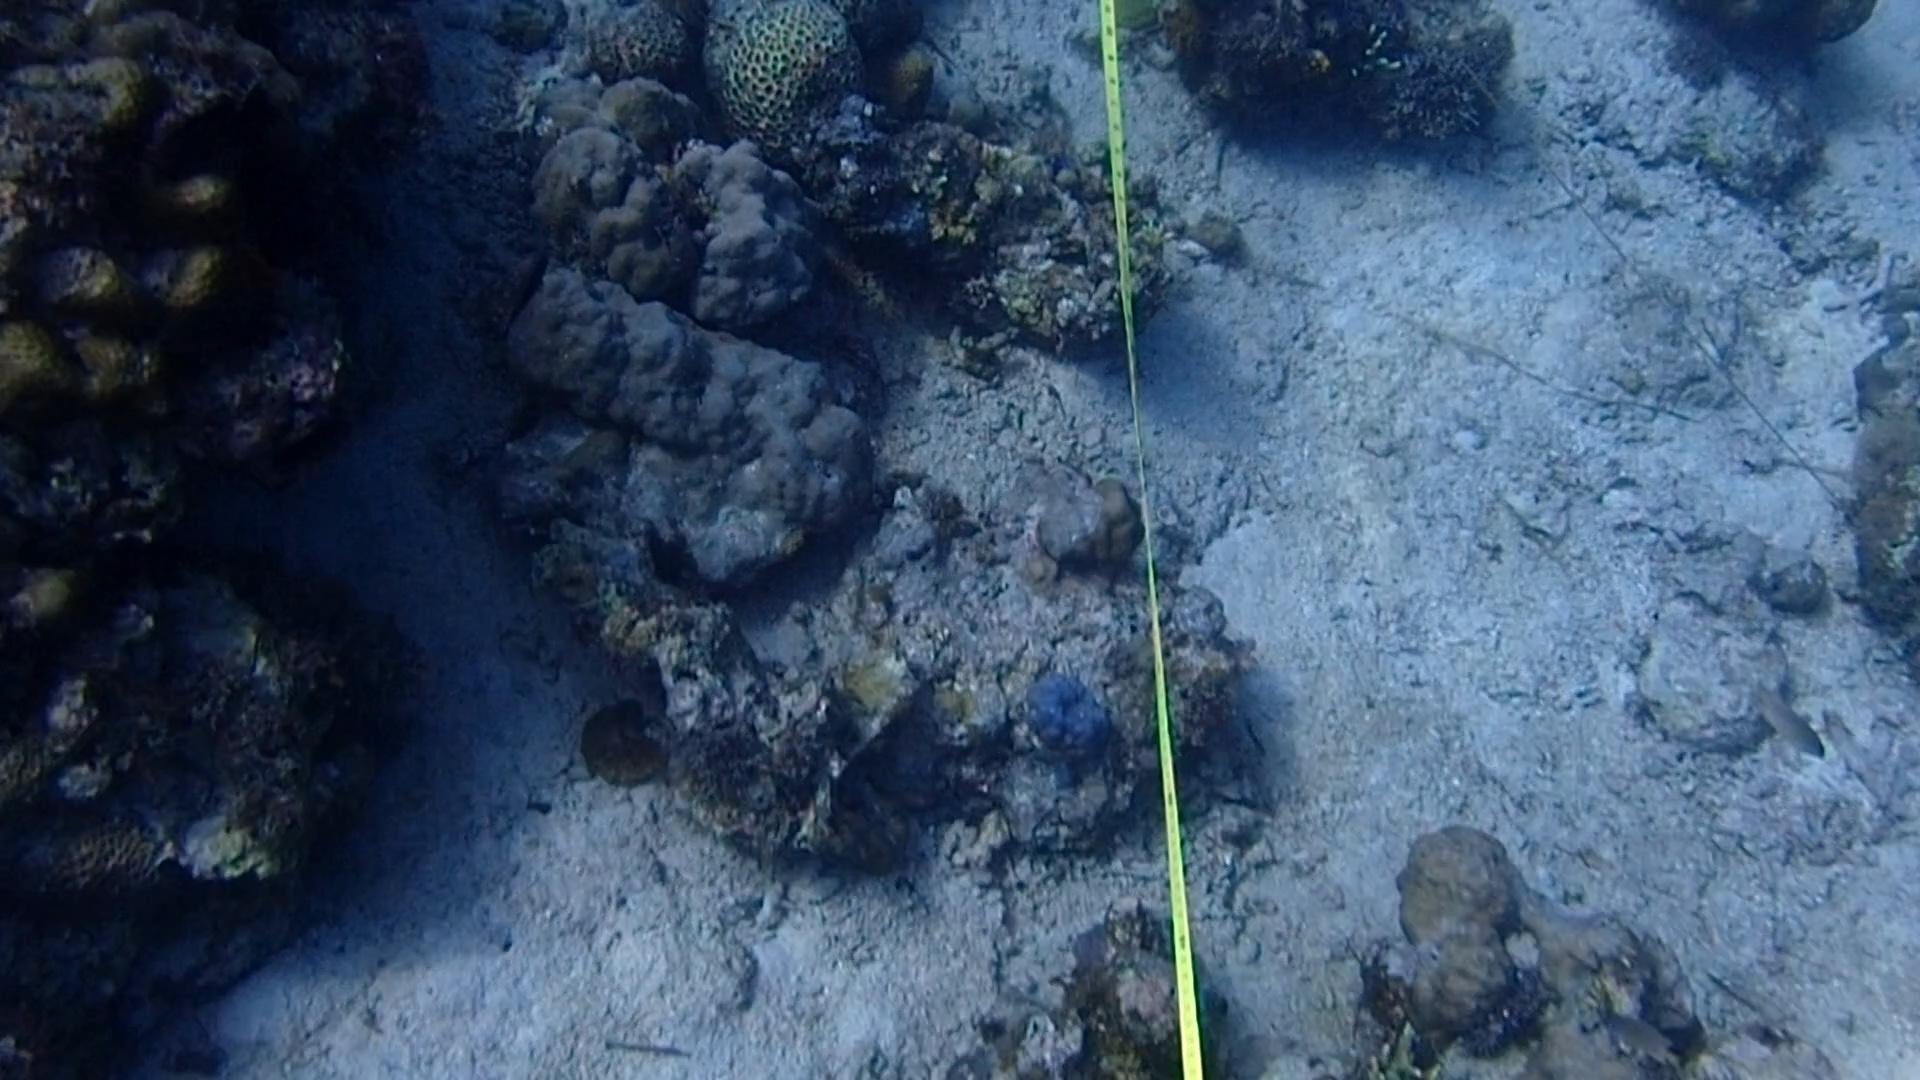Dark Fish: (153, 281, 285, 394), (142, 86, 284, 177), (170, 868, 295, 952), (476, 243, 562, 336)
Light Fish: (1738, 675, 1836, 779)
